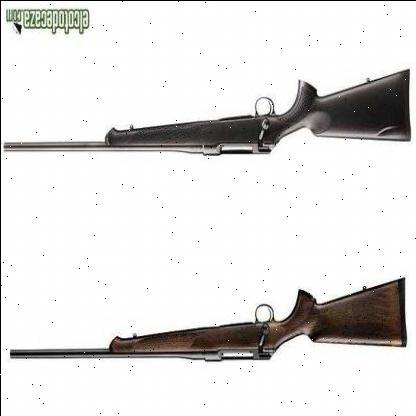rifle: (7, 238, 415, 385), (1, 54, 410, 187)
